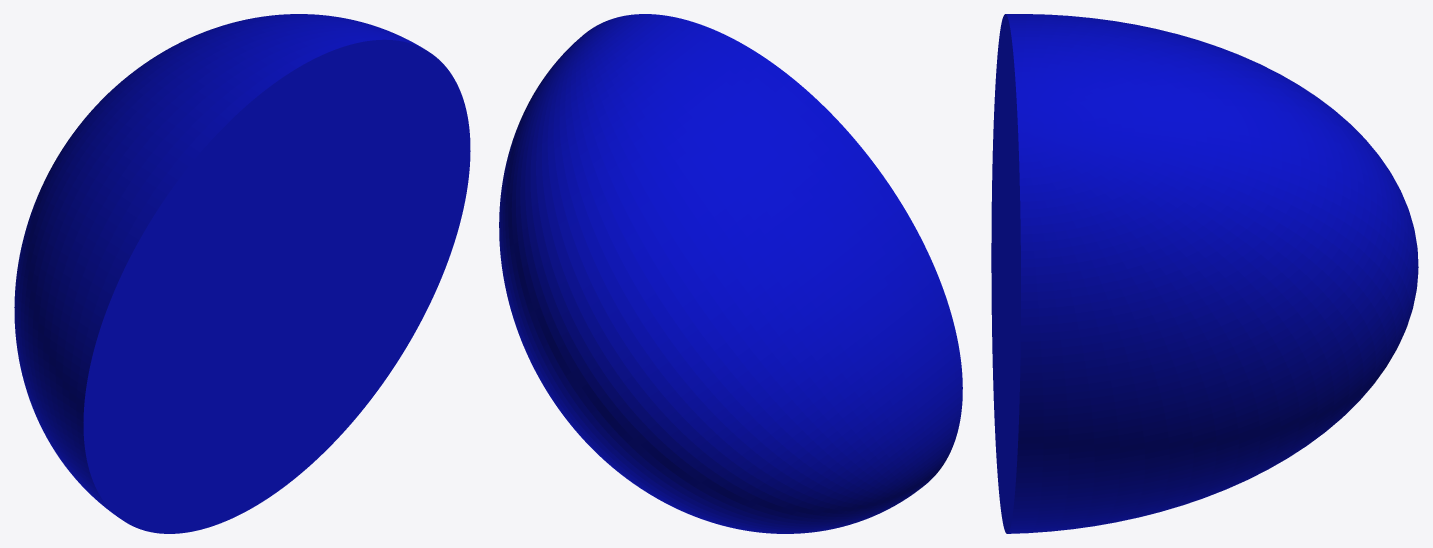
The picture shows the model from 3 angles, left to right: view 1: azimuth 30°, elevation 25°; view 2: azimuth 150°, elevation 25°; view 3: azimuth 270°, elevation 25°; orthographic projection. The views are drawn at different scales.
Visible parts, largest first — view 1: Test; view 2: Test; view 3: Test.
Boxes of the visible parts, <box> form: Test: <box>14,14,470,533</box>; Test: <box>499,14,962,533</box>; Test: <box>991,14,1418,533</box>.
Bounding box in the file's own units: 9.88 × 10.5 × 7.25.
